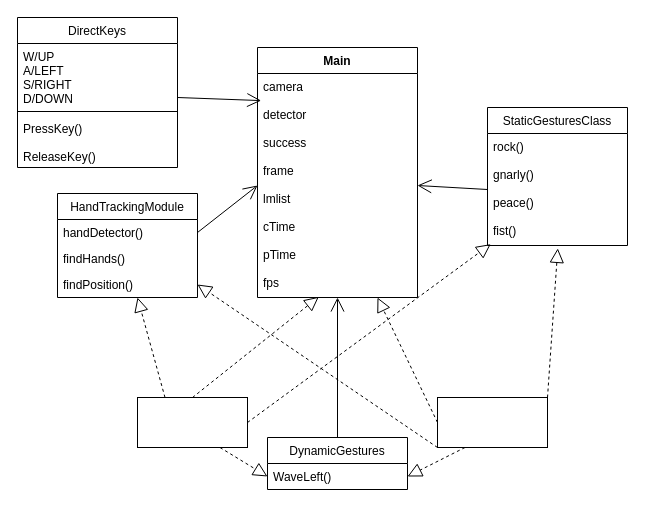
The diagram is 645 pixels wide and 510 high, and some of its shapes have lost their labels. The centre of each missing label's shape, as x and y in pixels:
"«interface» MediaPipe" goes at point 492,422.
"«interface» OpenCV" goes at point 192,422.
